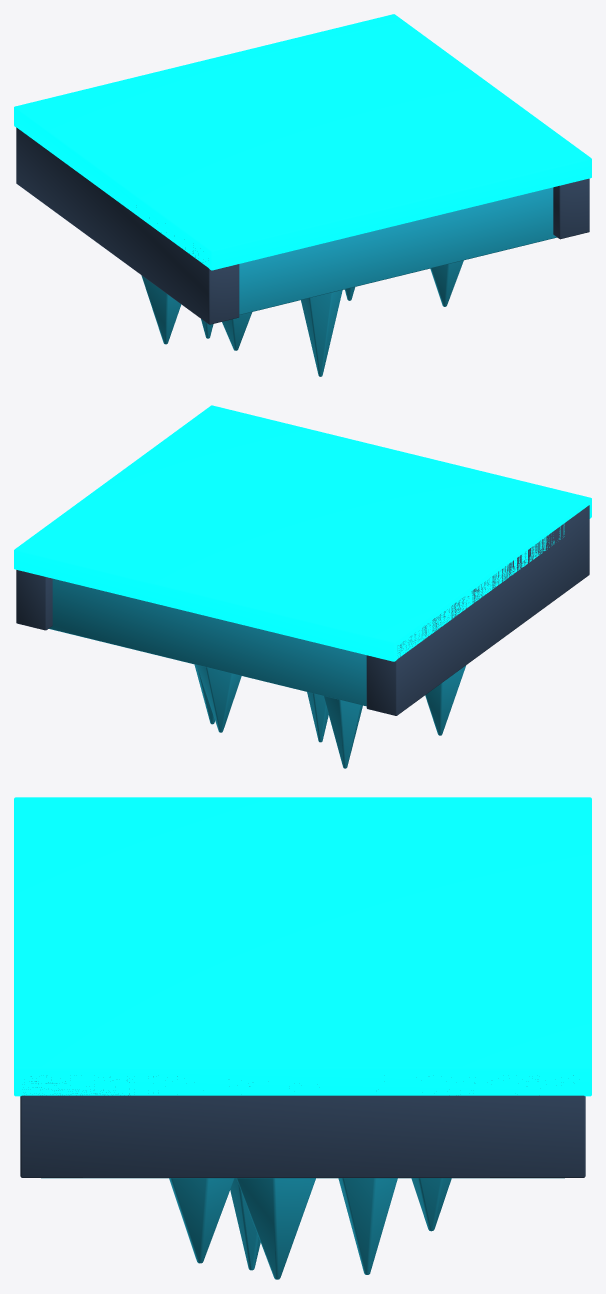
The model's file is SM_Platform_Normal.fbx.
The picture shows the model from 3 angles, top to bottom: view 1: azimuth 30°, elevation 25°; view 2: azimuth 150°, elevation 25°; view 3: azimuth 270°, elevation 25°; orthographic projection. The views are drawn at different scales.
Parts seen in each view (by area): view 1: SM_Platform_Normal; view 2: SM_Platform_Normal; view 3: SM_Platform_Normal.
Part boxes in pixels (left/top/right/bottom): SM_Platform_Normal: left=14, top=14, right=591, bottom=376; SM_Platform_Normal: left=14, top=405, right=591, bottom=768; SM_Platform_Normal: left=14, top=797, right=591, bottom=1279.
Bounding box in the file's own units: 100 × 90 × 58.
